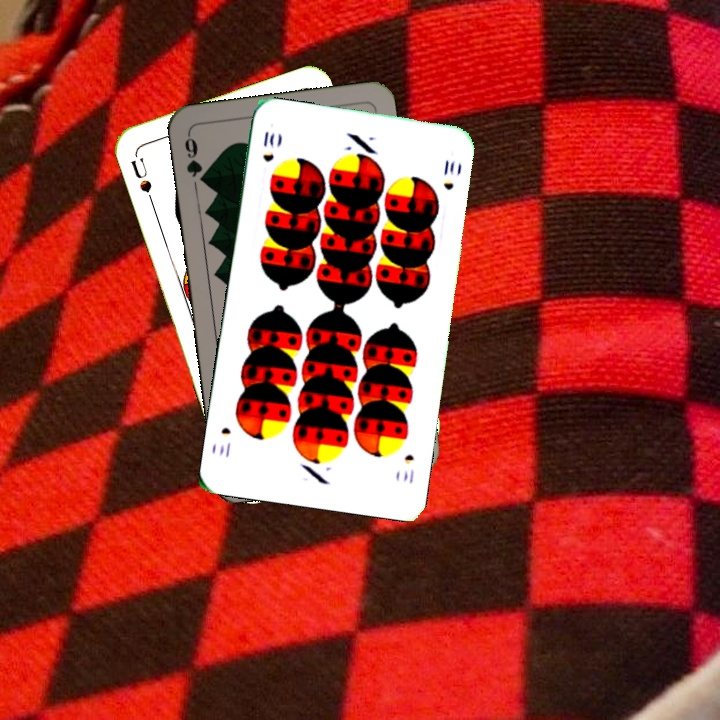G9: (180, 130, 210, 188)
S10: (259, 127, 277, 165), (399, 450, 417, 486)
SU: (126, 149, 156, 207)
